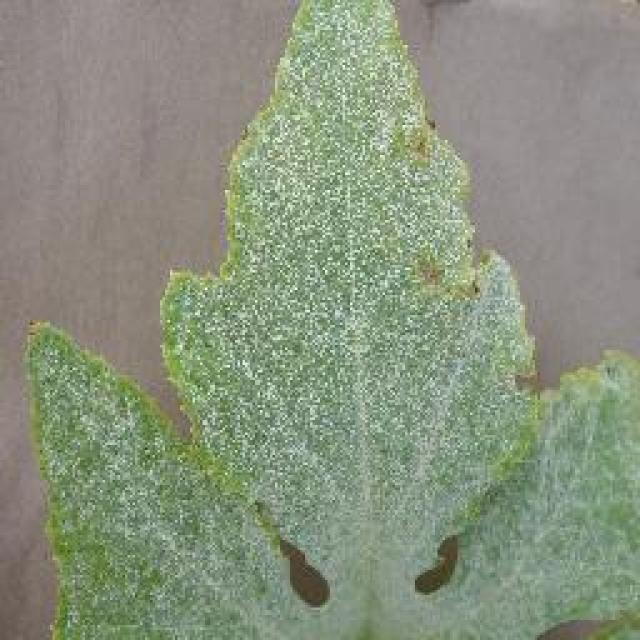Squ_Powdery_mildew: (164, 92, 526, 558)
